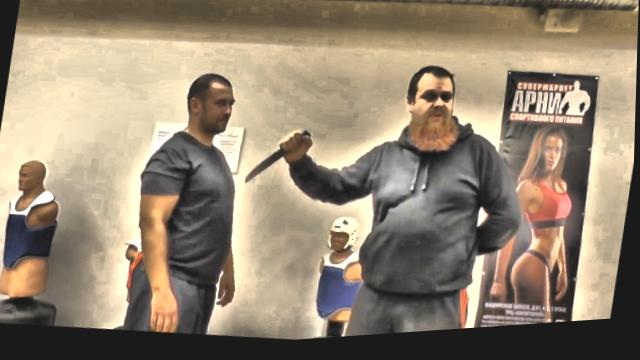knife: (242, 125, 317, 196)
